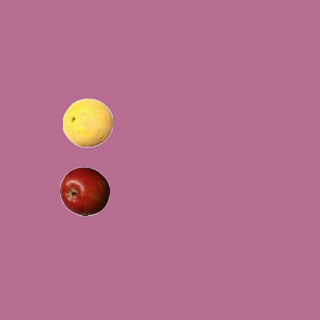Apple Braeburn: (59, 166, 109, 216)
Cantaloupe 1: (62, 97, 112, 147)
